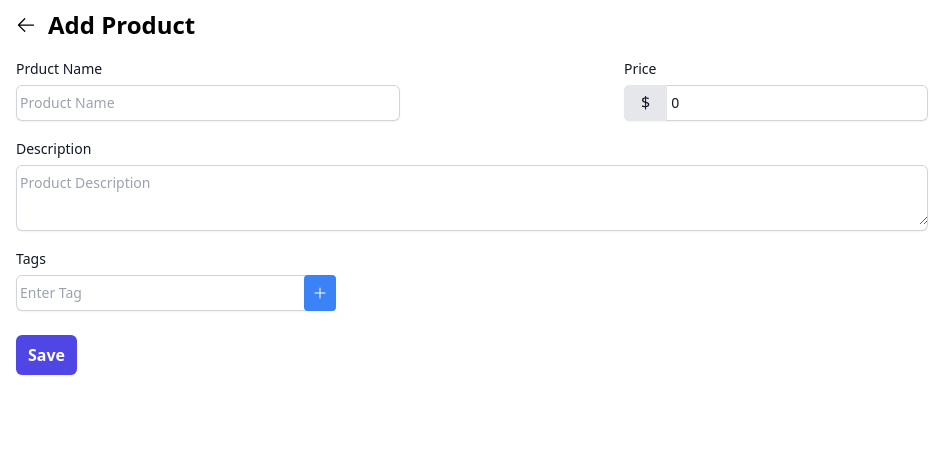
Test: Add Product › Form submit error
In the field with placeholder "Product Name": (208, 103) [16,85,400,121], type "Test title"
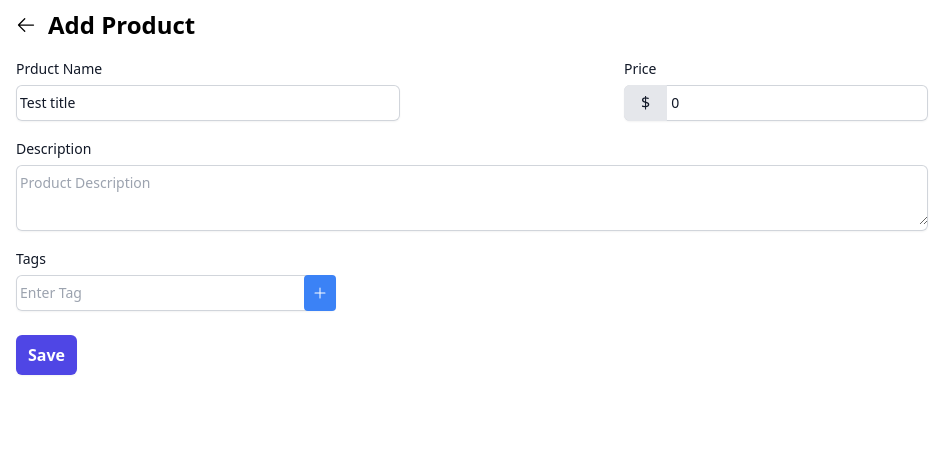
Replace the text in the number field labelled "Price" with "100.50": (798, 103) [667,85,928,121]
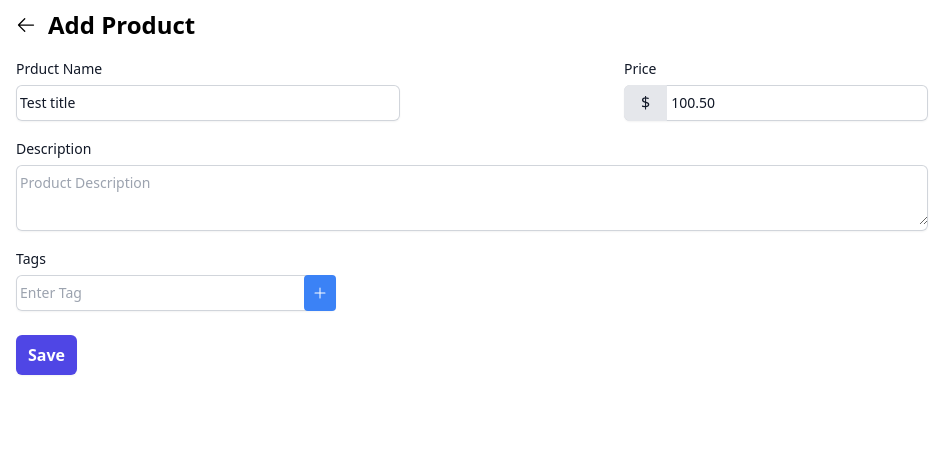
In the text box with placeholder "Product Description": (472, 195) [16,165,928,225], type "Sample product description"
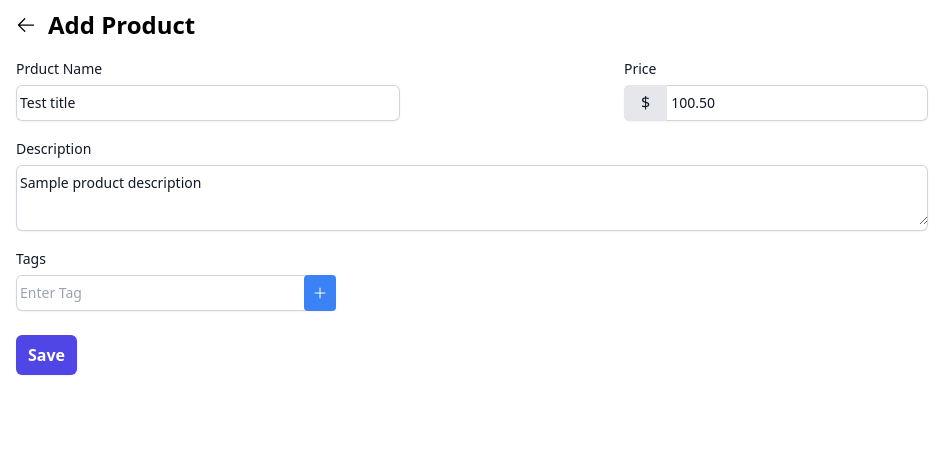
In the field with test id "tag-": (156, 293) [16,275,296,311], type "Tag 1"
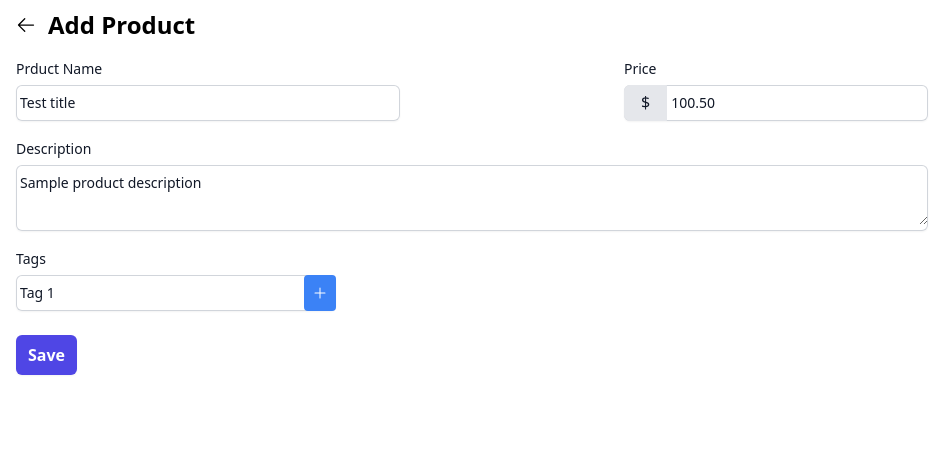
Submit the form with test id "productForm"
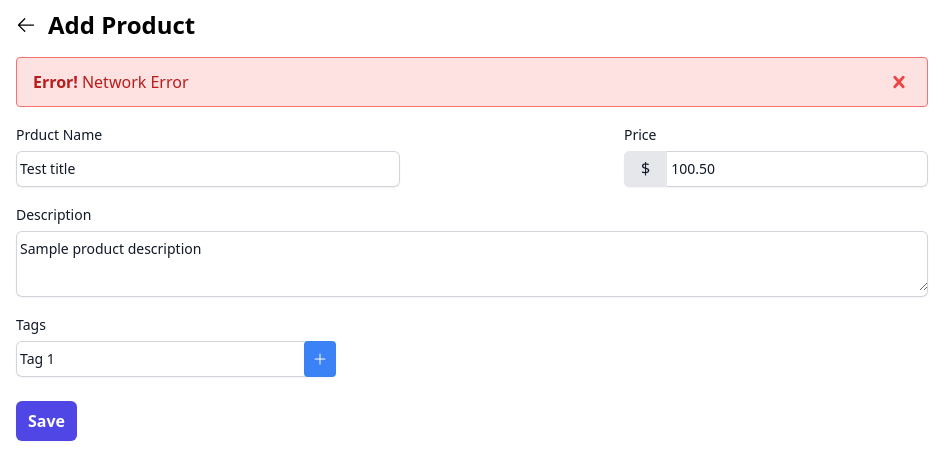
Expected: the text "Error!" is shown, [33,70,78,94]
